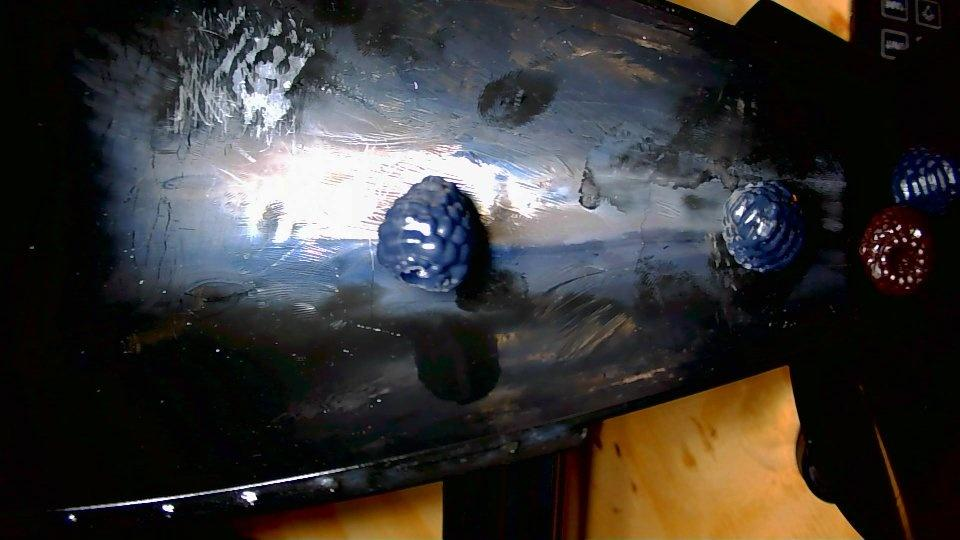berry: (376, 176, 480, 291), (722, 183, 804, 272), (859, 205, 932, 295), (891, 147, 959, 213)
